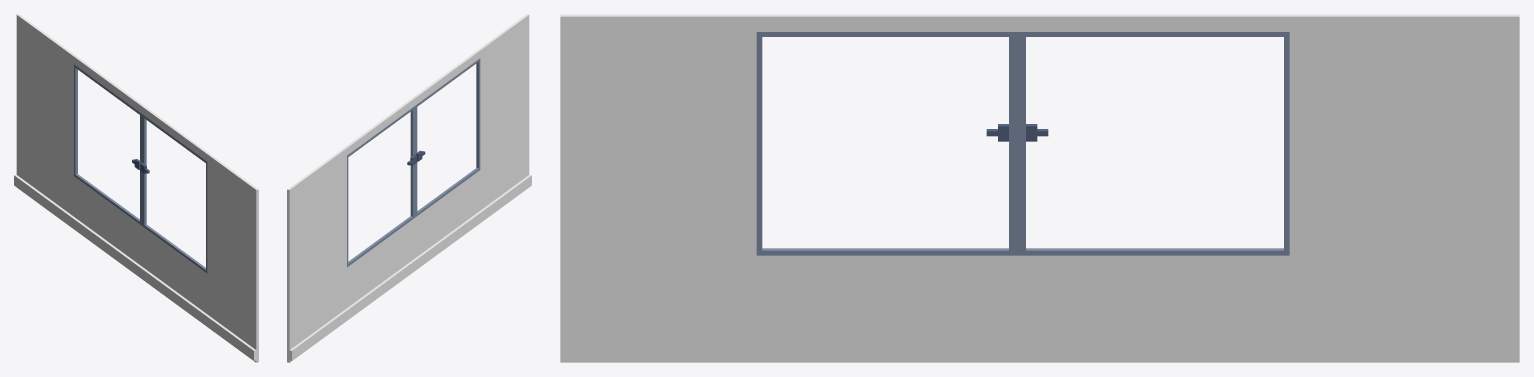
File: Room Wall-0-RoomWall.obj
3 renders of one model, left to right at view 1: azimuth 30°, elevation 25°; view 2: azimuth 150°, elevation 25°; view 3: azimuth 270°, elevation 25°, orthographic. The views are drawn at different scales.
Visible parts, largest first — view 1: RoomWall; view 2: RoomWall; view 3: RoomWall.
Boxes of the visible parts, bbox=[...] form: RoomWall: bbox=[14, 14, 258, 362]; RoomWall: bbox=[287, 14, 531, 362]; RoomWall: bbox=[560, 14, 1519, 362].
Bounding box in the file's own units: 0.2 × 6.8 × 17.1.
1 material, 1 textured.
